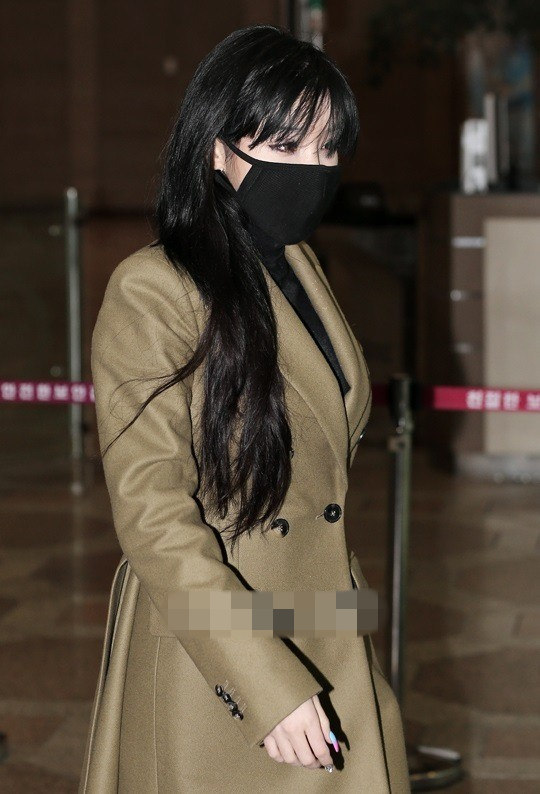face_mask: (232, 84, 338, 255)
